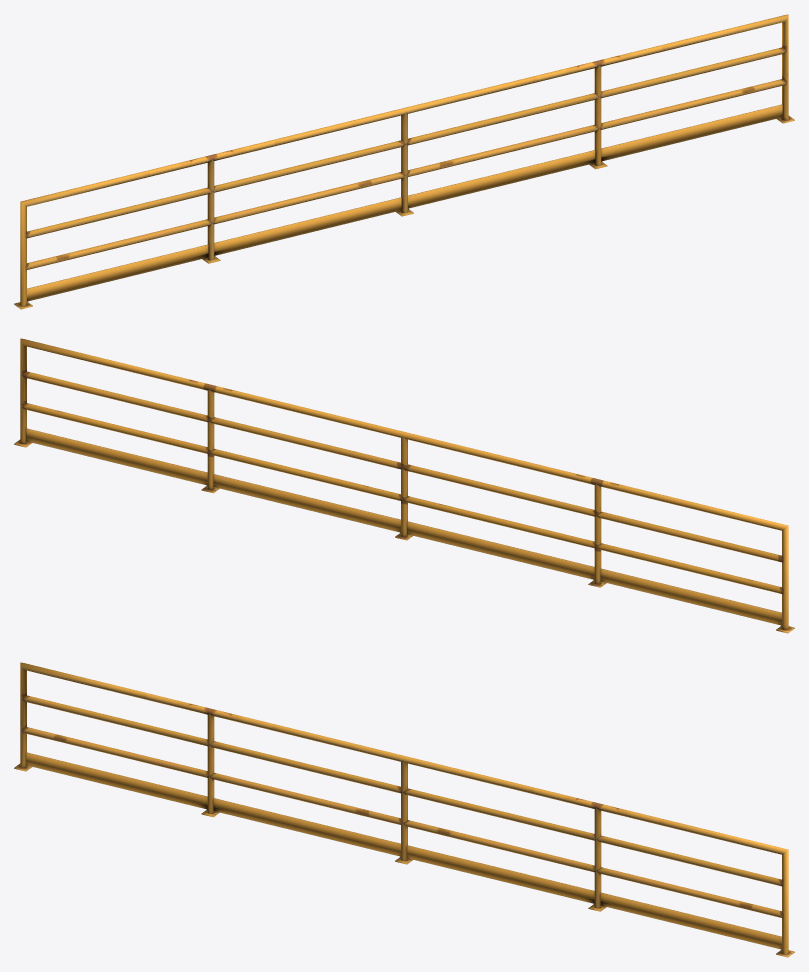
The picture shows the model from 3 angles, top to bottom: view 1: azimuth 30°, elevation 25°; view 2: azimuth 150°, elevation 25°; view 3: azimuth 330°, elevation 25°; orthographic projection.
Visible parts, largest first — view 1: body0_model0_lod0_mesh0; view 2: body0_model0_lod0_mesh0; view 3: body0_model0_lod0_mesh0.
Part boxes in pixels (<box>): body0_model0_lod0_mesh0: <box>14,14,794,309</box>; body0_model0_lod0_mesh0: <box>14,338,794,633</box>; body0_model0_lod0_mesh0: <box>14,662,794,957</box>.
Bounding box in the file's own units: 256 × 33 × 4.
Materials: 1 (1 with a texture image).
